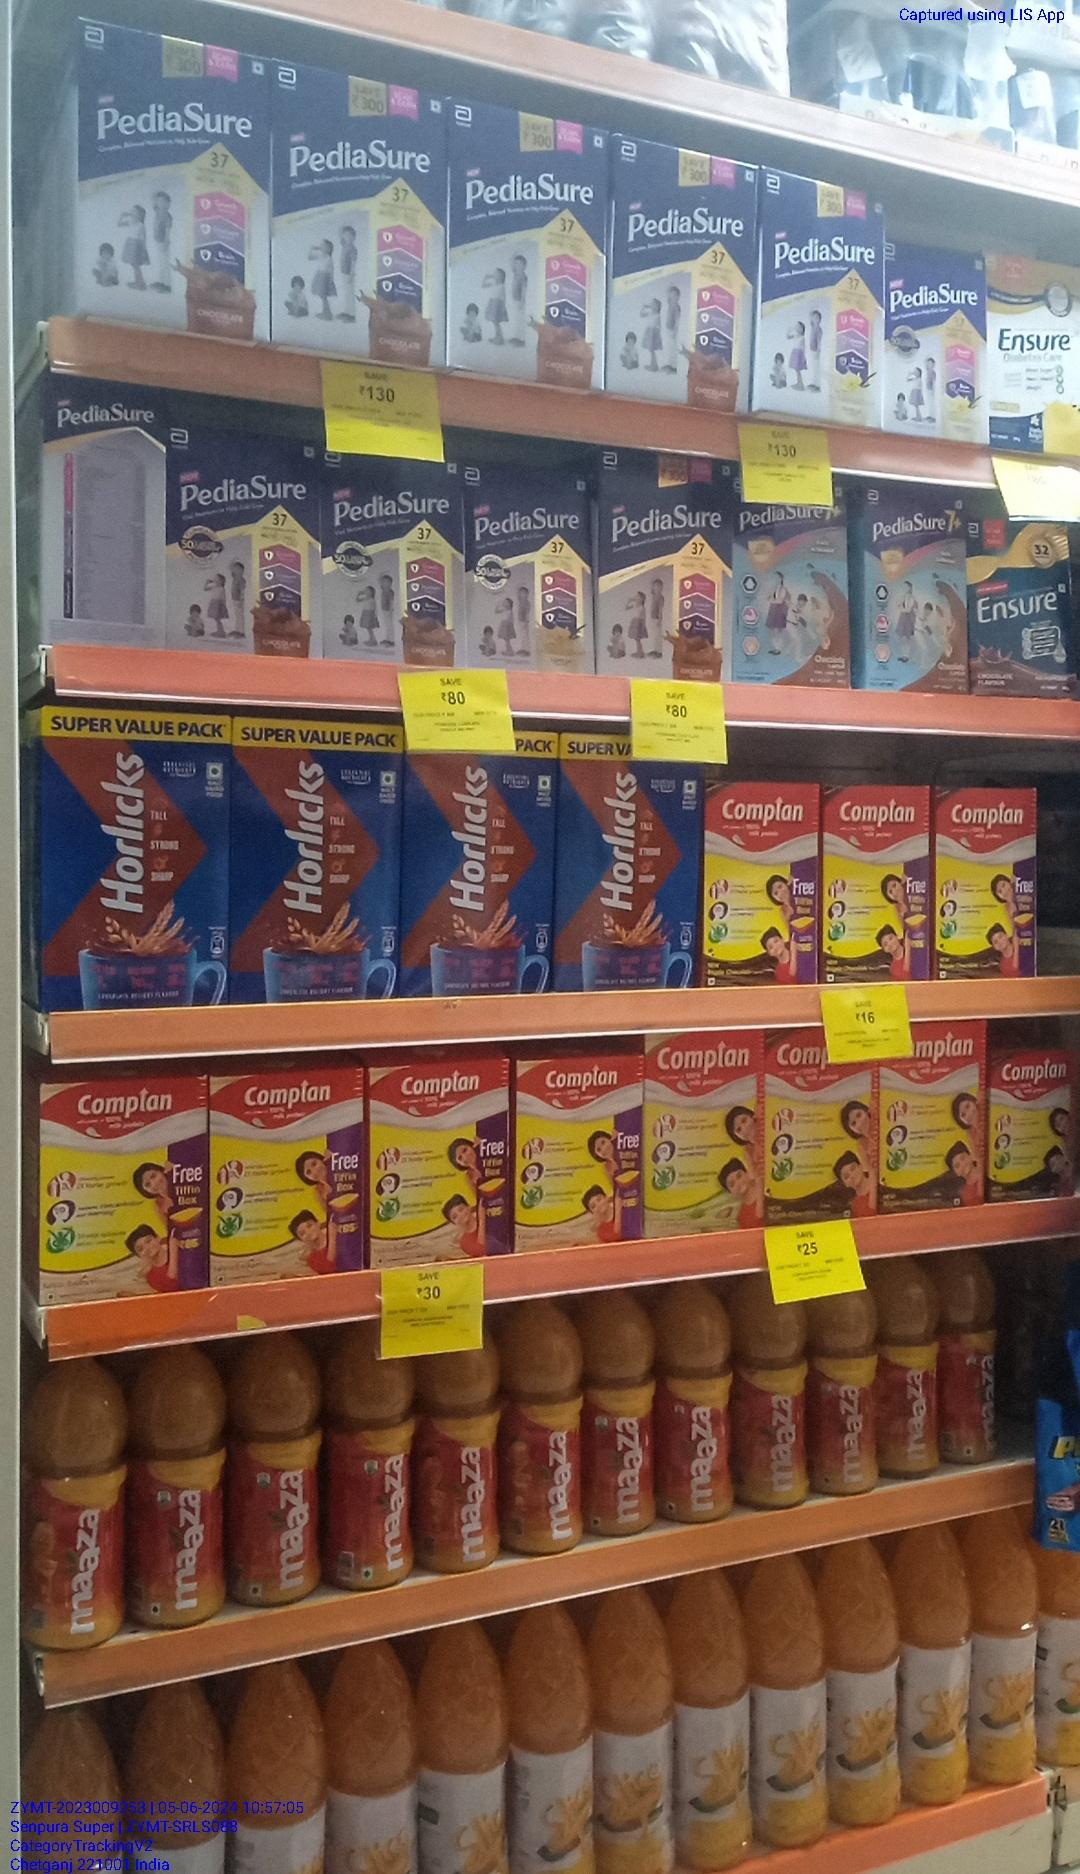PEDIASURE_CHOCOLATE_500_G_PACK: (76, 19, 272, 336), (278, 57, 440, 359), (448, 86, 608, 390), (617, 122, 748, 412), (167, 427, 324, 658), (330, 438, 463, 668), (602, 452, 726, 681)
PEDIASURE_VANILLA_500_G_PACK: (759, 166, 882, 427), (470, 465, 591, 672), (889, 245, 980, 438)
